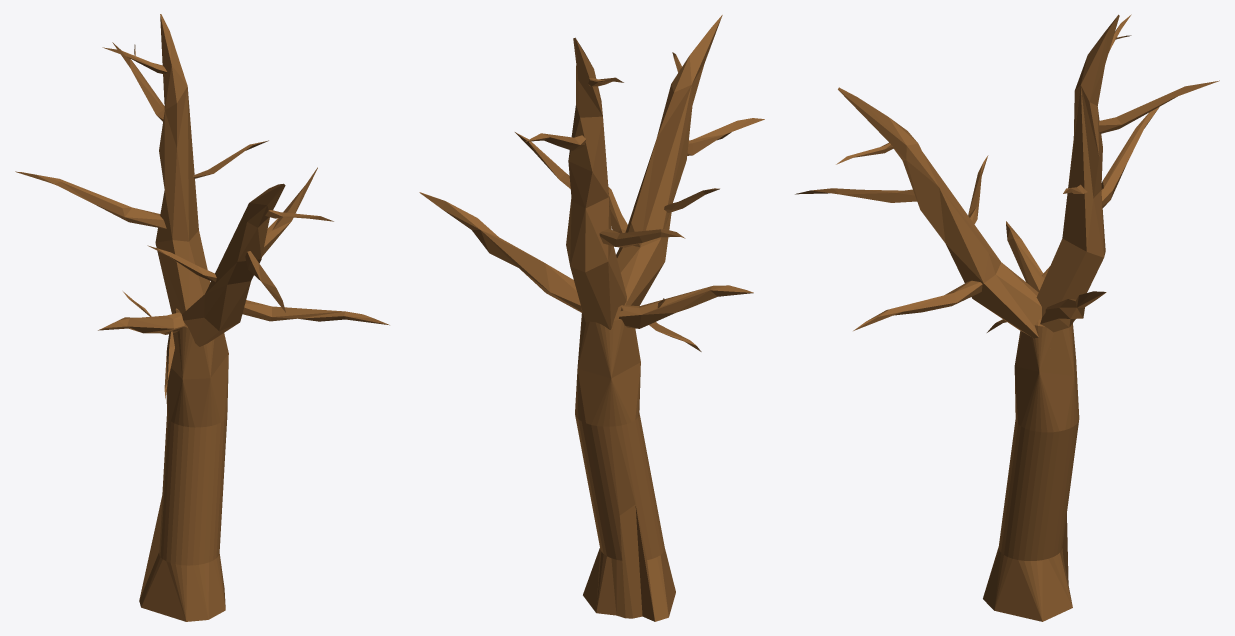
File: Dead Tree.fbx
The picture shows the model from 3 angles, left to right: view 1: azimuth 30°, elevation 25°; view 2: azimuth 150°, elevation 25°; view 3: azimuth 270°, elevation 25°; orthographic projection. The views are drawn at different scales.
Visible parts, largest first — view 1: Cylinder.005; view 2: Cylinder.005; view 3: Cylinder.005.
Boxes of the visible parts, x1,y1,x2,y2 form: Cylinder.005: [15, 14, 389, 621]; Cylinder.005: [419, 15, 764, 621]; Cylinder.005: [795, 14, 1219, 621].
Bounding box in the file's own units: 546 × 1048 × 684.
